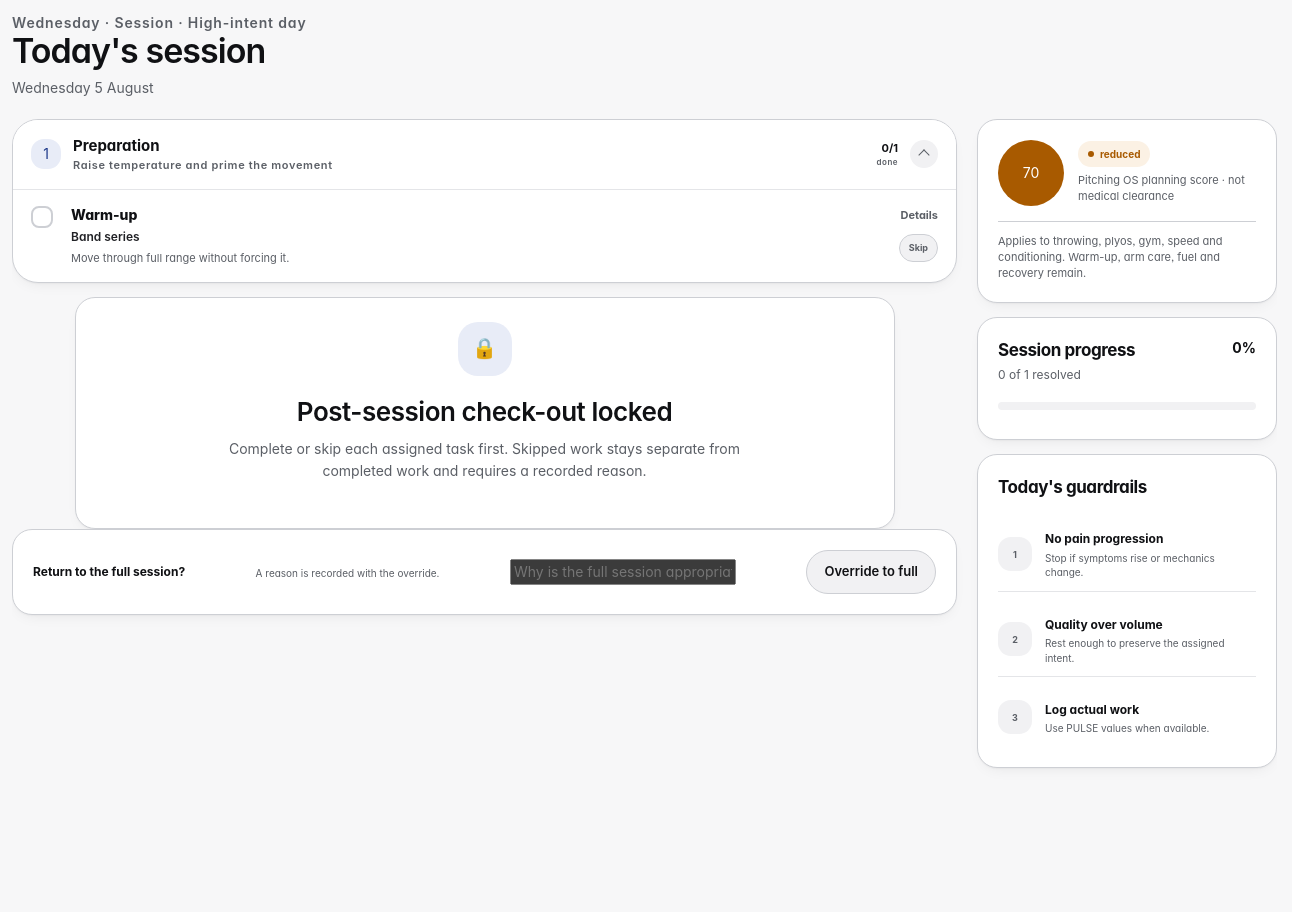
DailyPlan — skipping › requires a reason before overriding a reduced plan
Click the button "Override to full" at [871, 572], box 806,550 -> 936,594
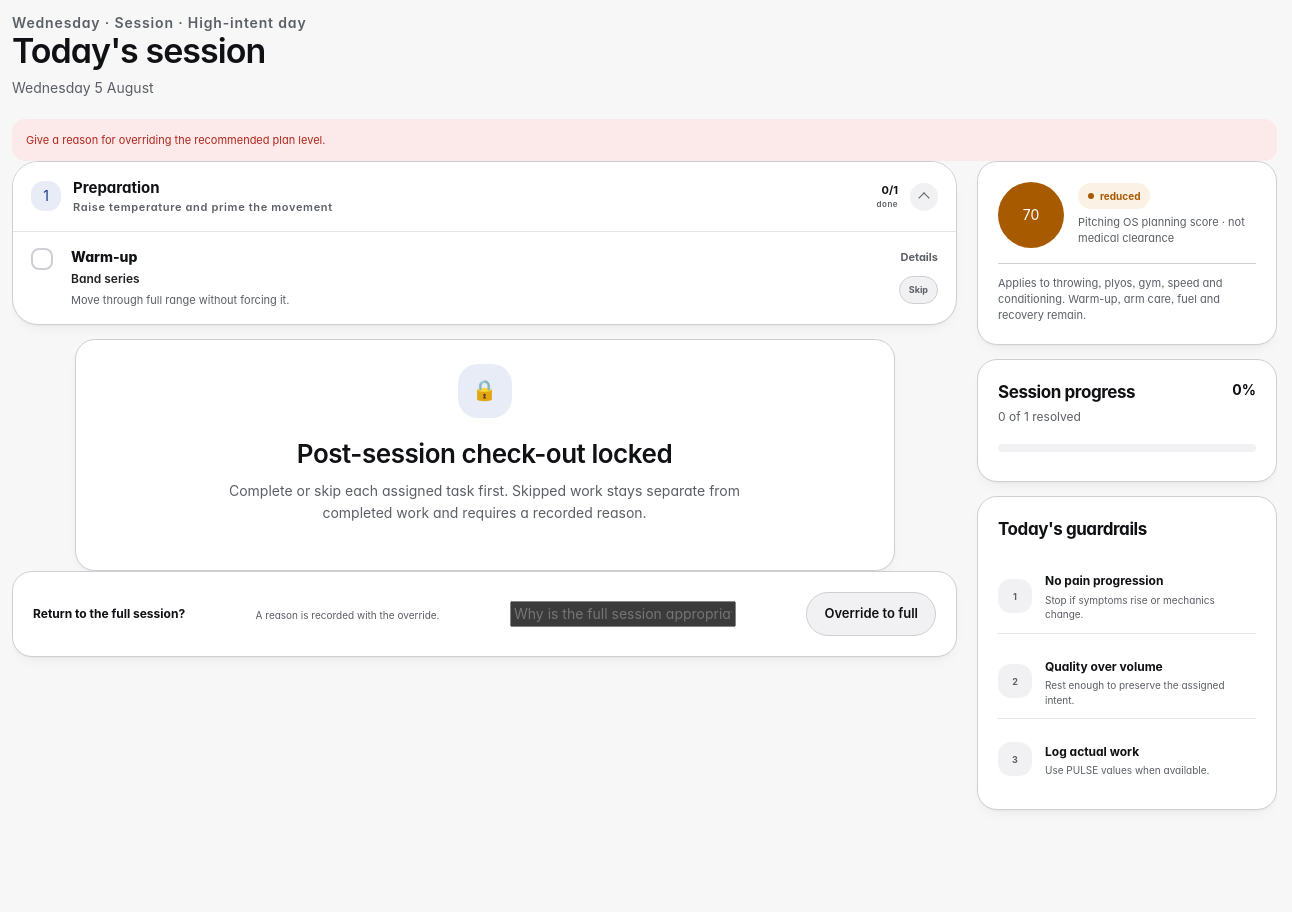
expect the message shows "reason": met, box 26,133 -> 325,147
